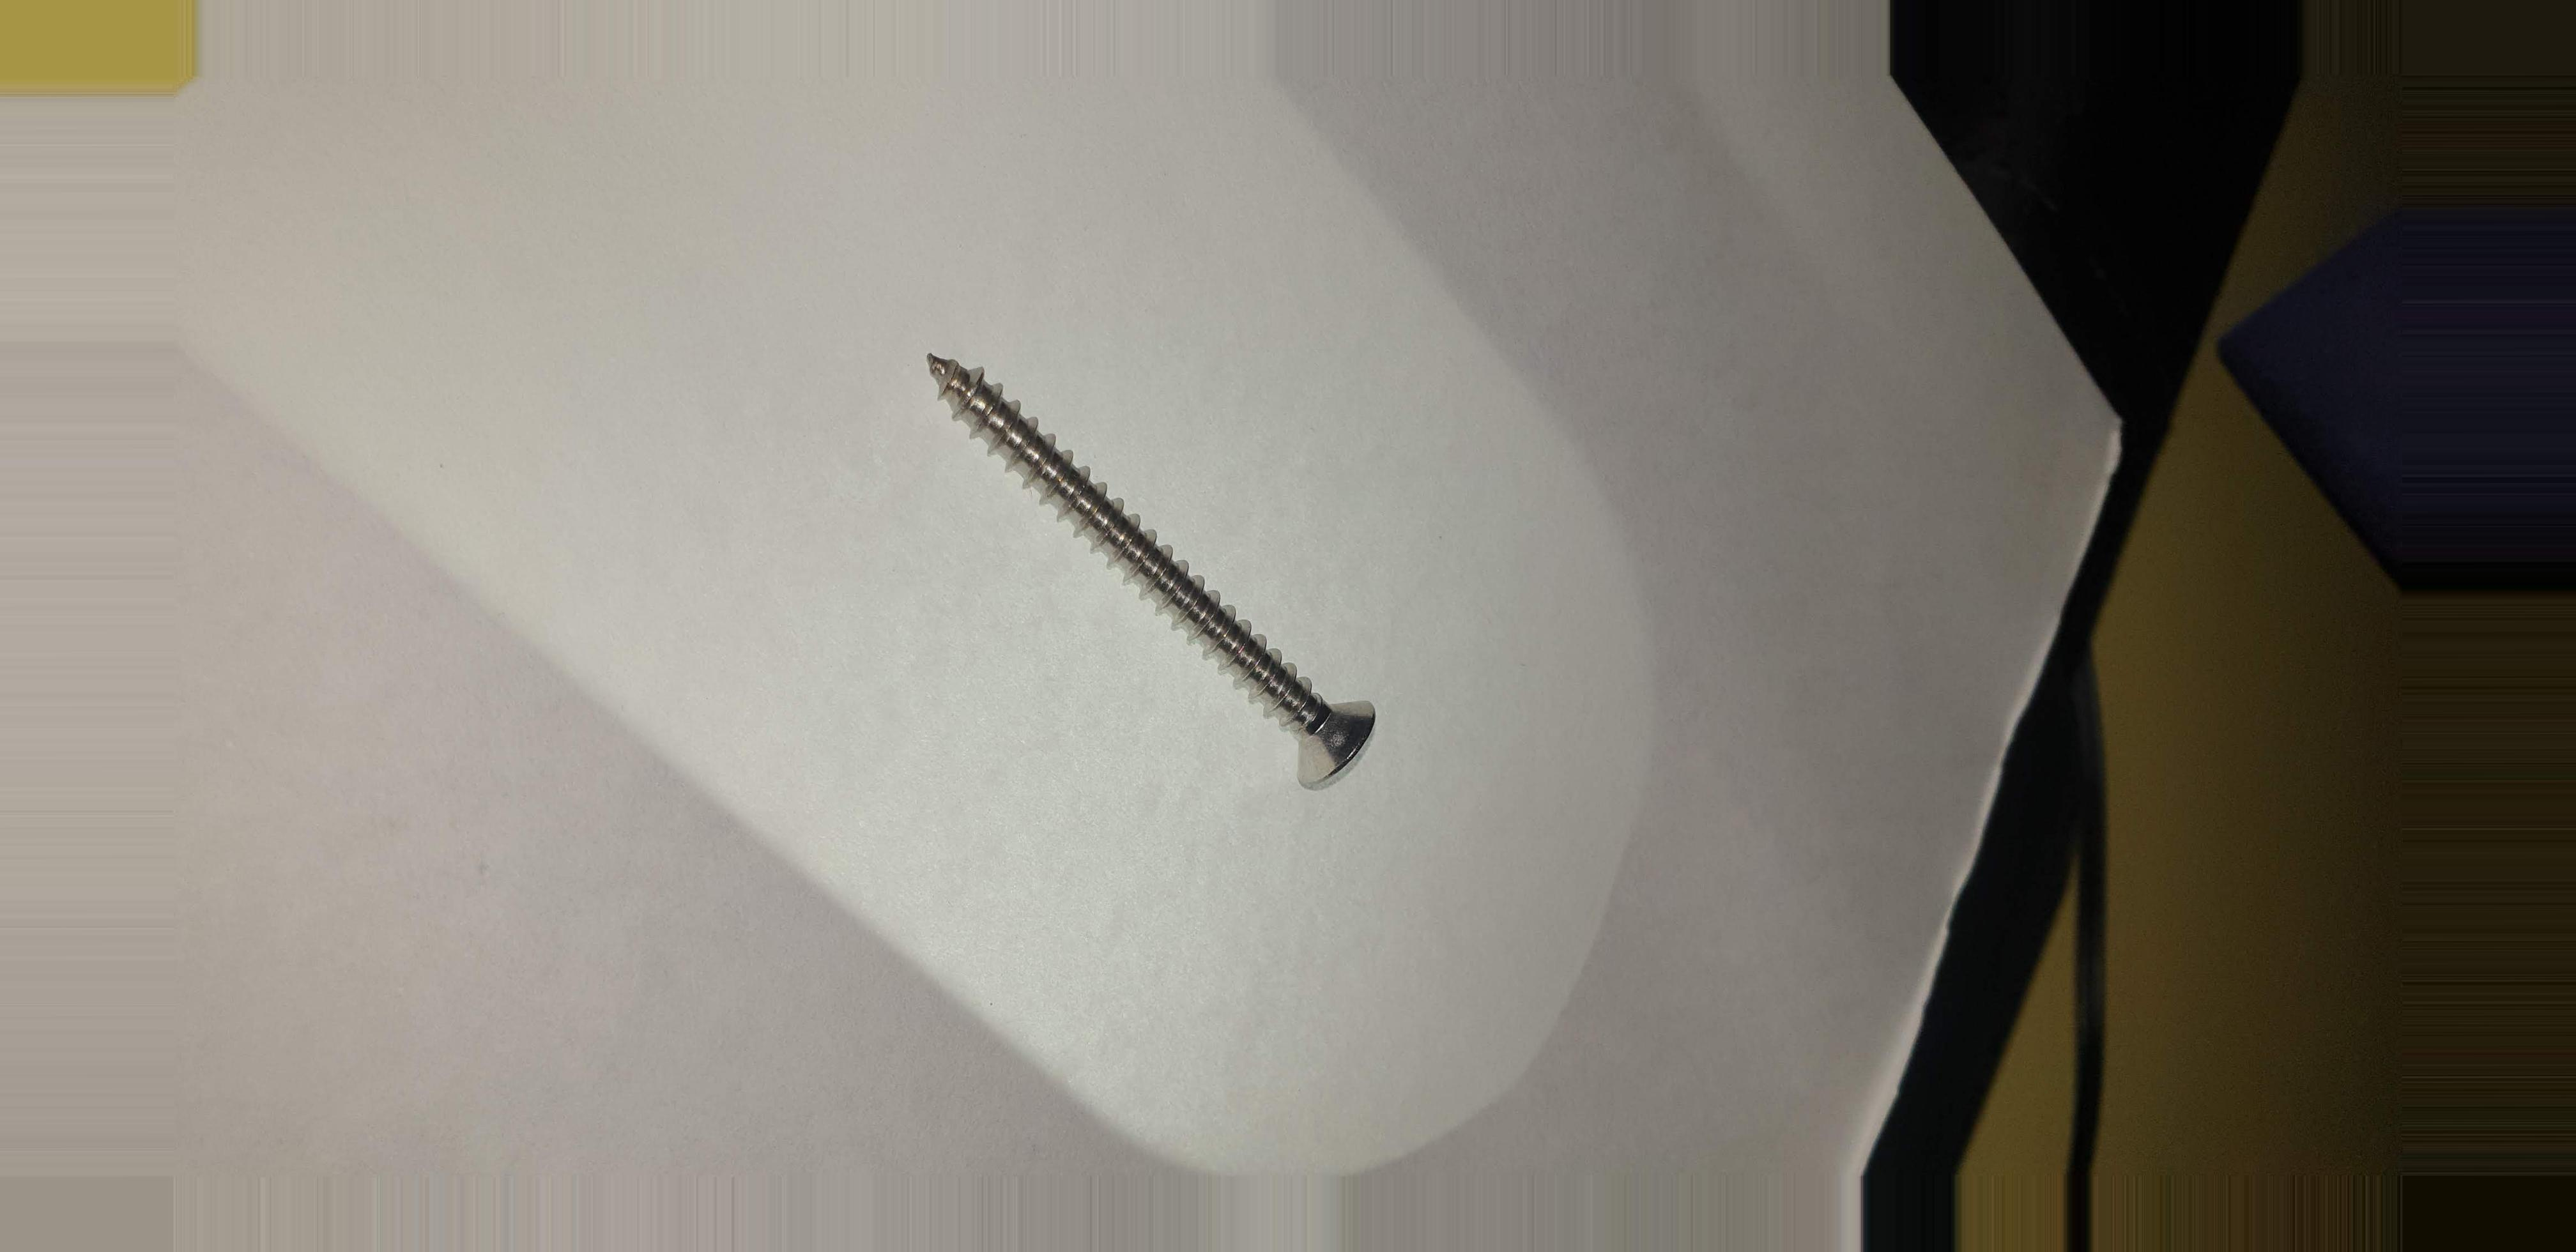fastener: (826, 304, 1493, 869)
